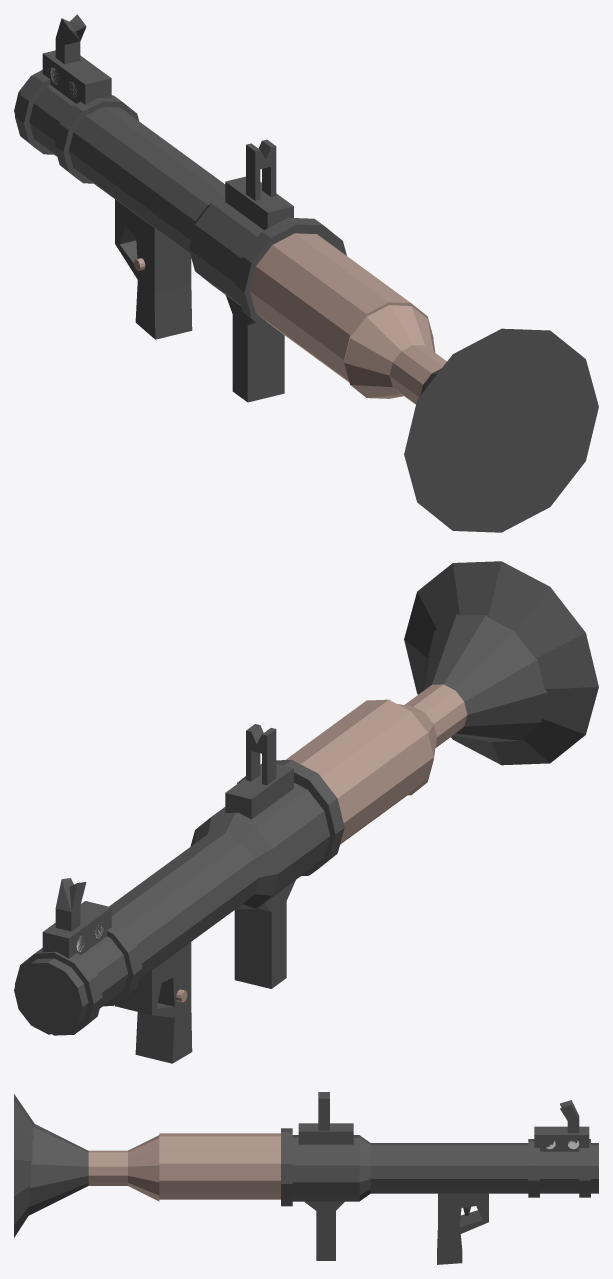
File: lawnchair.fbx
3 renders of one model, top to bottom at view 1: azimuth 30°, elevation 25°; view 2: azimuth 150°, elevation 25°; view 3: azimuth 270°, elevation 25°, orthographic. The views are drawn at different scales.
Visible parts, largest first — view 1: model.001; view 2: model.001; view 3: model.001.
Boxes of the visible parts, left/top/right/bottom form: model.001: left=14, top=14, right=598, bottom=532; model.001: left=14, top=561, right=598, bottom=1063; model.001: left=14, top=1092, right=598, bottom=1264.
Bounding box in the file's own units: 37 × 46.02 × 149.
